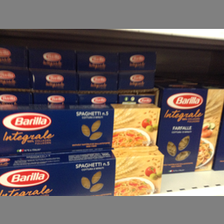pasta: (1, 103, 161, 155), (1, 150, 164, 196), (158, 81, 224, 174)
